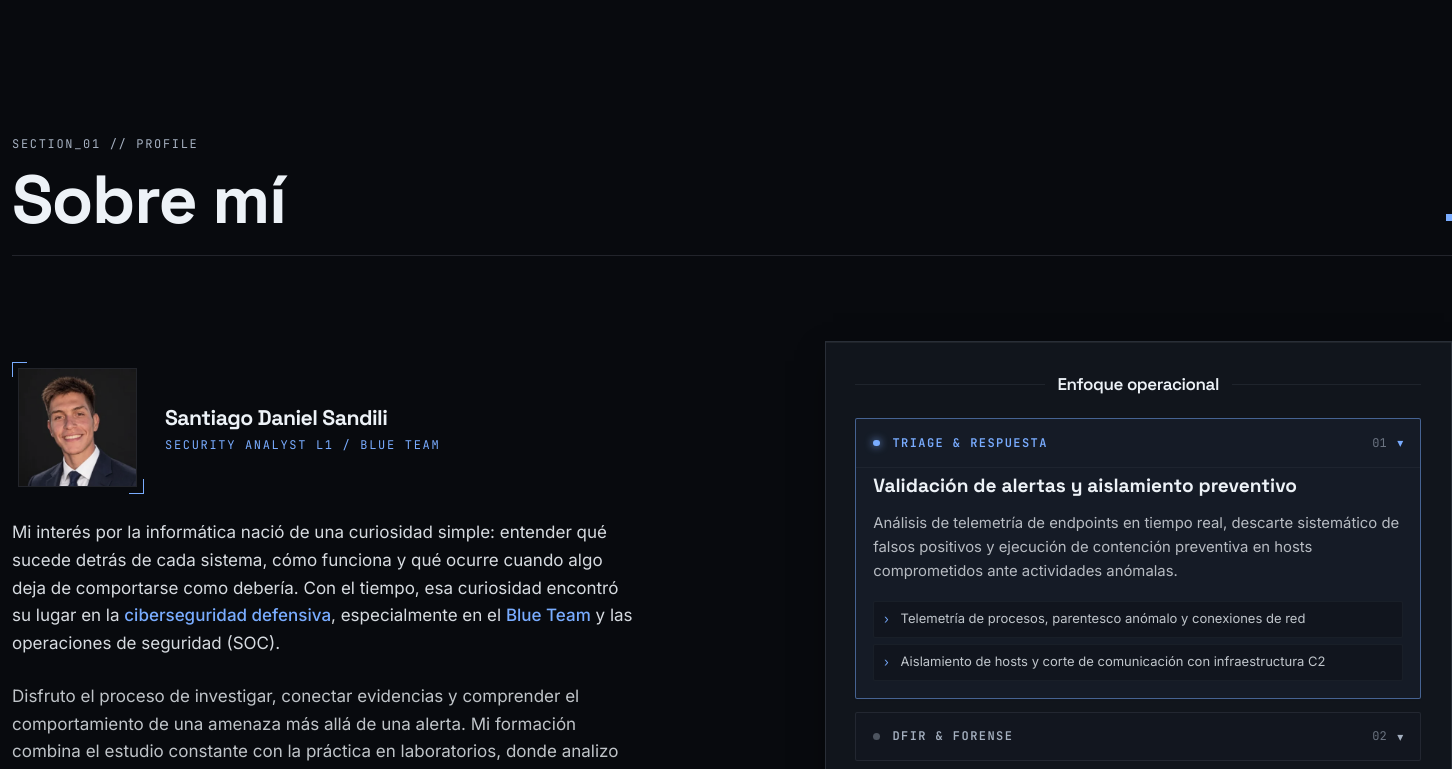
Test: About section - Profile Narrative & Tactical Dossier › minimizes the open tab when clicking on it again
# Click again to minimize
Click the button "TRIAGE & RESPUESTA 01 ▾" at point(970, 443), box [856,419,1420,467]
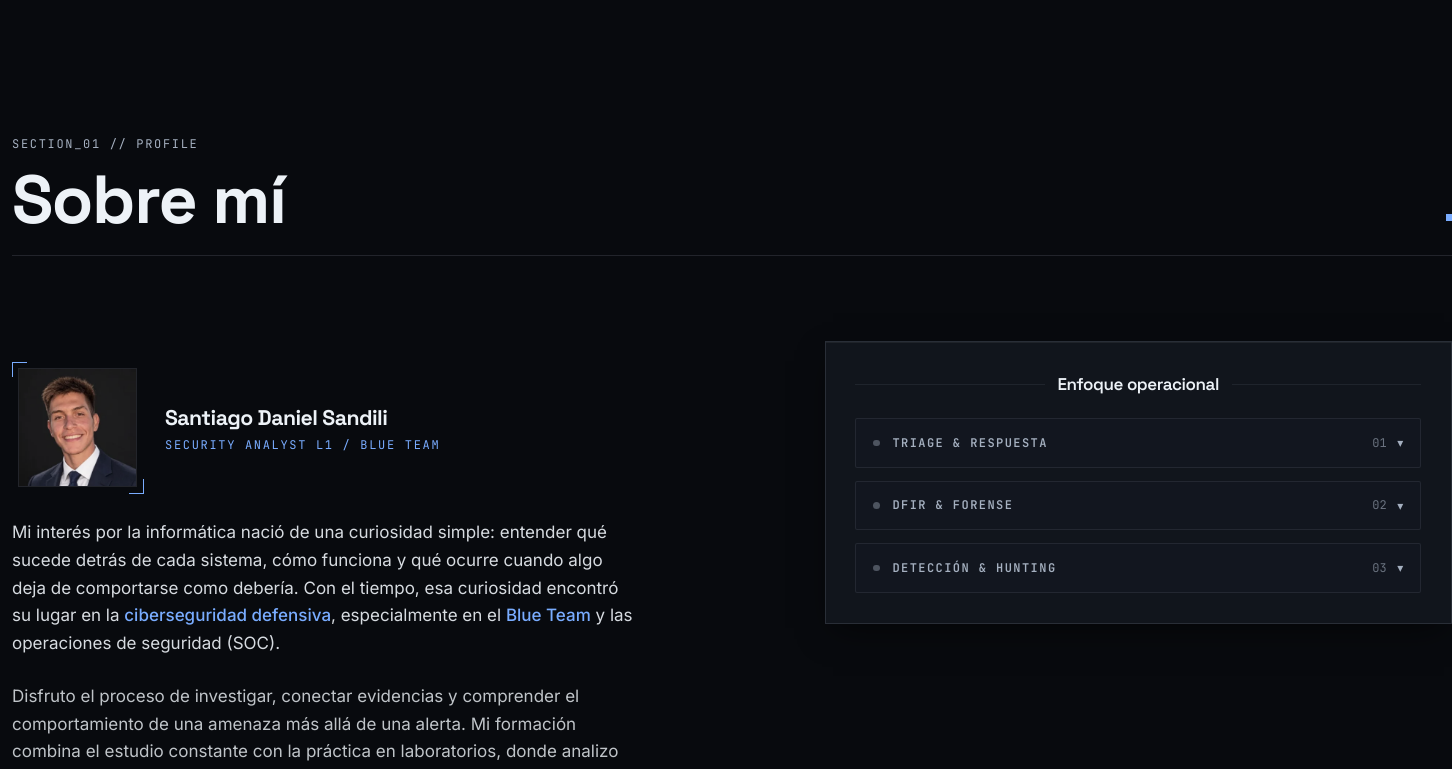
Now the button "TRIAGE & RESPUESTA 01 ▾" is collapsed, box [856,419,1420,467]
